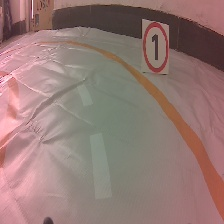limit: (140, 17, 171, 78)
